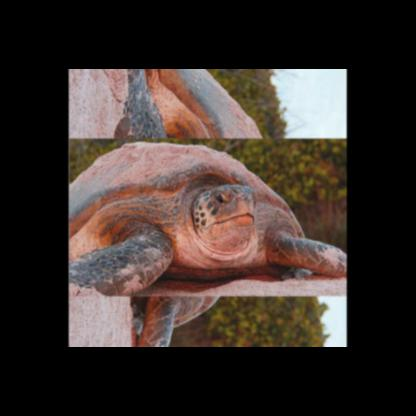turtle: (70, 75, 334, 344)
